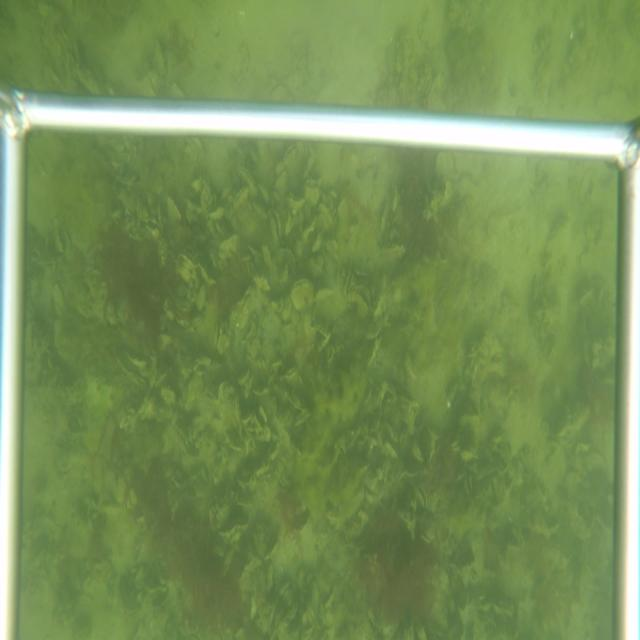Oyster-Closed: (290, 279, 317, 313), (236, 165, 258, 197), (232, 186, 249, 215)
Oyster-Open: (267, 208, 283, 244), (281, 143, 297, 170), (414, 484, 429, 508)
